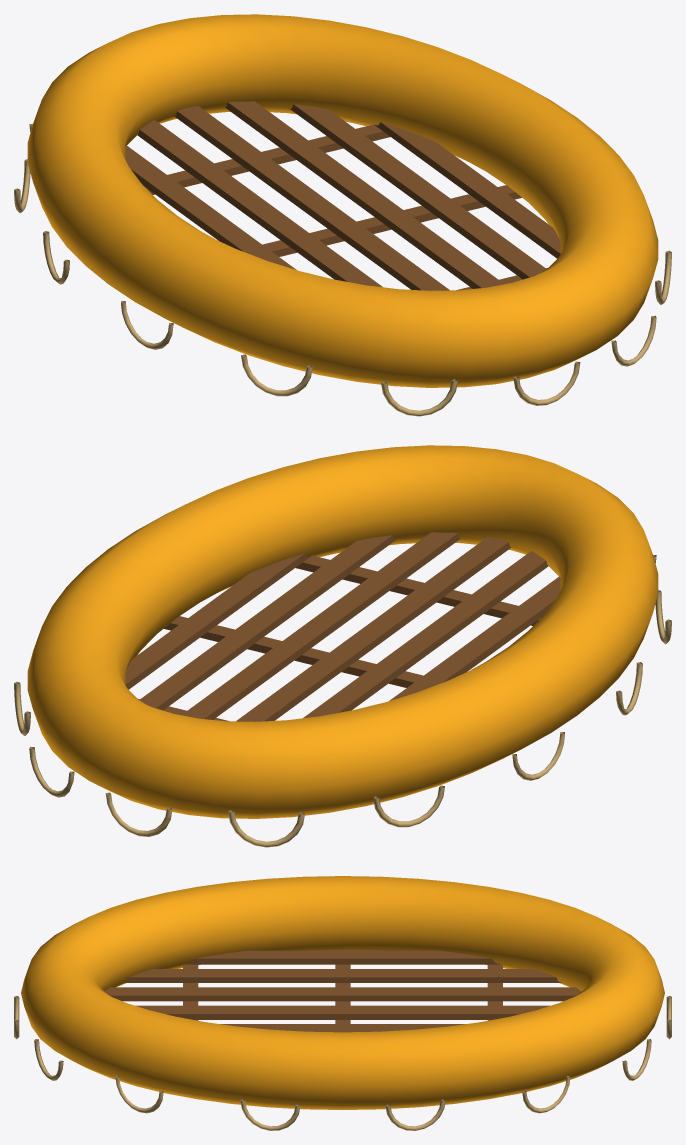
The model's file is life_raft.obj.
3 views of the same model, one above another, from view 1: azimuth 30°, elevation 25°; view 2: azimuth 150°, elevation 25°; view 3: azimuth 270°, elevation 25° (orthographic). The views are drawn at different scales.
Visible parts, largest first — view 1: life_raft; view 2: life_raft; view 3: life_raft.
Part boxes in pixels (<box>): life_raft: <box>14,14,671,416</box>; life_raft: <box>14,445,671,847</box>; life_raft: <box>14,876,671,1130</box>.
Size of the model in its own units: 2.13 by 0.3932 by 3.02.
